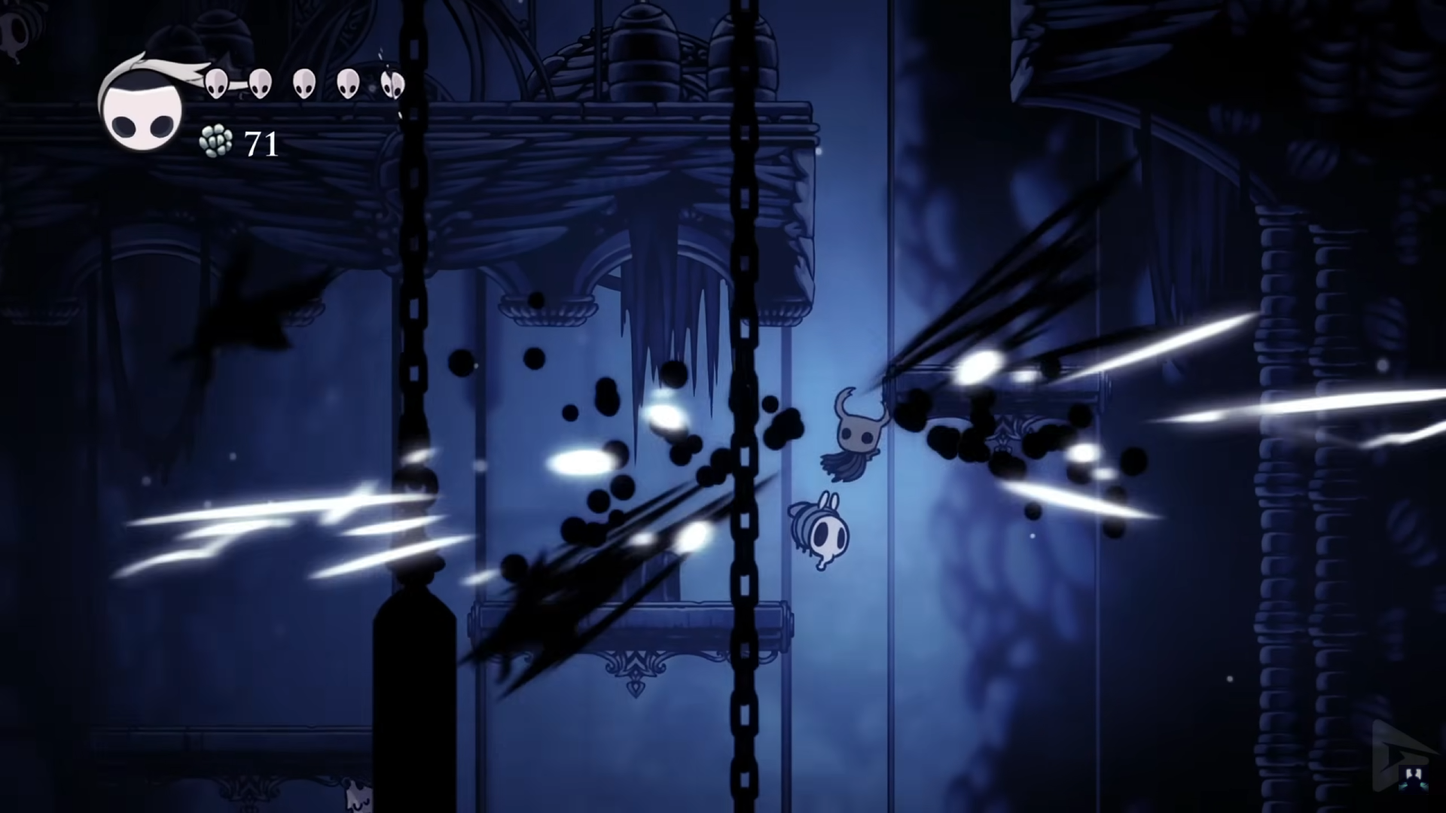HK: (825, 381, 894, 487)
